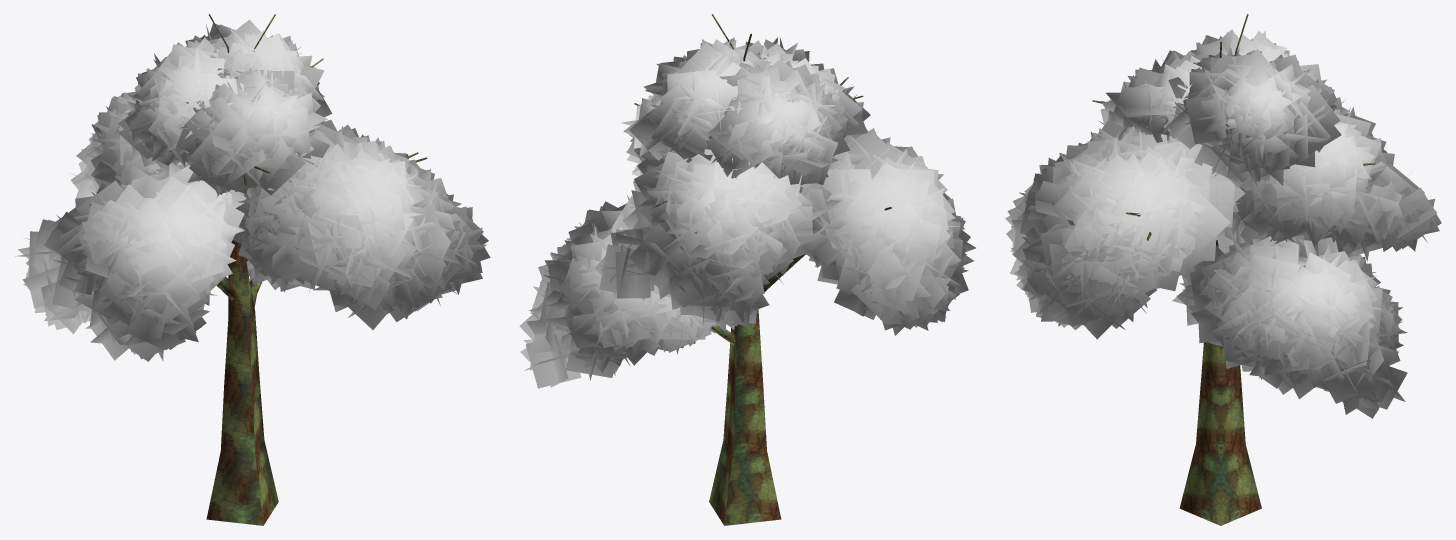
The model's file is Tree2.fbx.
3 renders of one model, left to right at view 1: azimuth 30°, elevation 25°; view 2: azimuth 150°, elevation 25°; view 3: azimuth 270°, elevation 25°, orthographic.
Parts seen in each view (by area): view 1: leaves01, trunk01; view 2: leaves01, trunk01; view 3: leaves01, trunk01.
Part boxes in pixels (bbox=[...]): leaves01: bbox=[15, 19, 490, 361]; trunk01: bbox=[90, 14, 427, 525]; leaves01: bbox=[519, 37, 975, 388]; trunk01: bbox=[634, 14, 891, 525]; leaves01: bbox=[1005, 29, 1441, 418]; trunk01: bbox=[1092, 14, 1375, 525].
Size of the model in its own units: 5.71 by 5.71 by 7.
